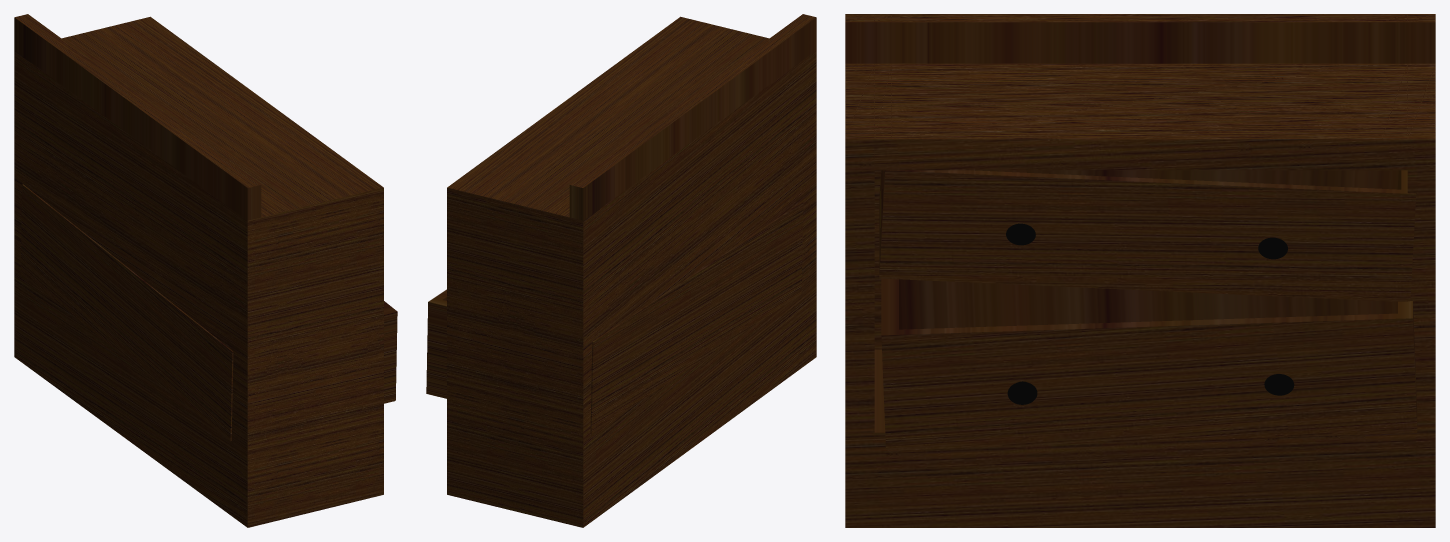
Rendered from dresser.glb.
3 views of the same model, side by side, from view 1: azimuth 30°, elevation 25°; view 2: azimuth 150°, elevation 25°; view 3: azimuth 270°, elevation 25° (orthographic). The views are drawn at different scales.
Visible parts, largest first — view 1: Cube.002; view 2: Cube.002; view 3: Cube.002, Cube.000.
Boxes of the visible parts, x1,y1,x2,y2 form: Cube.002: [14, 14, 397, 527]; Cube.002: [426, 14, 816, 527]; Cube.002: [845, 14, 1435, 527]; Cube.000: [1006, 223, 1294, 404].
Bounding box in the file's own units: 1.18 × 2.22 × 2.75.
2 materials, 1 textured.
